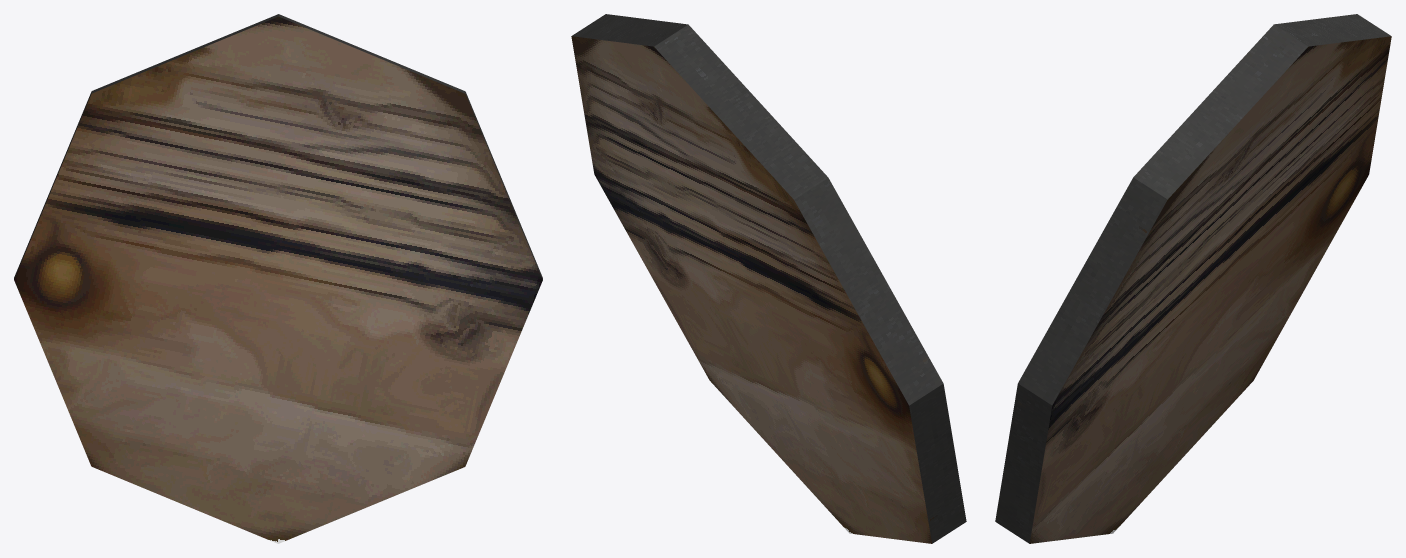
Rendered from barrel-lid.glb.
3 views of the same model, side by side, from view 1: azimuth 30°, elevation 25°; view 2: azimuth 150°, elevation 25°; view 3: azimuth 270°, elevation 25° (orthographic). The views are drawn at different scales.
Parts seen in each view (by area): view 1: Barrel_lid; view 2: Barrel_lid; view 3: Barrel_lid.
Boxes of the visible parts, x1=… form: Barrel_lid: x1=14, y1=14, x2=542, y2=543; Barrel_lid: x1=571, y1=14, x2=966, y2=543; Barrel_lid: x1=995, y1=14, x2=1391, y2=543.
Bounding box in the file's own units: 0.4956 × 0.5295 × 0.3468.
1 material, 1 textured.
